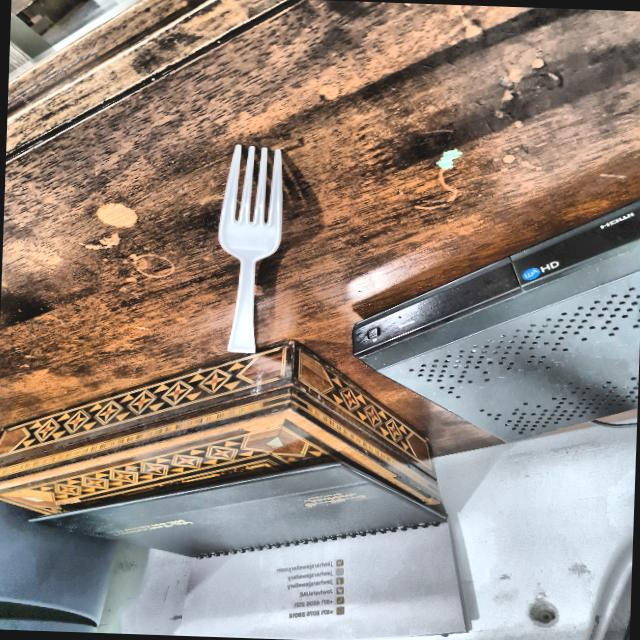plastic utensil: (213, 144, 292, 365)
